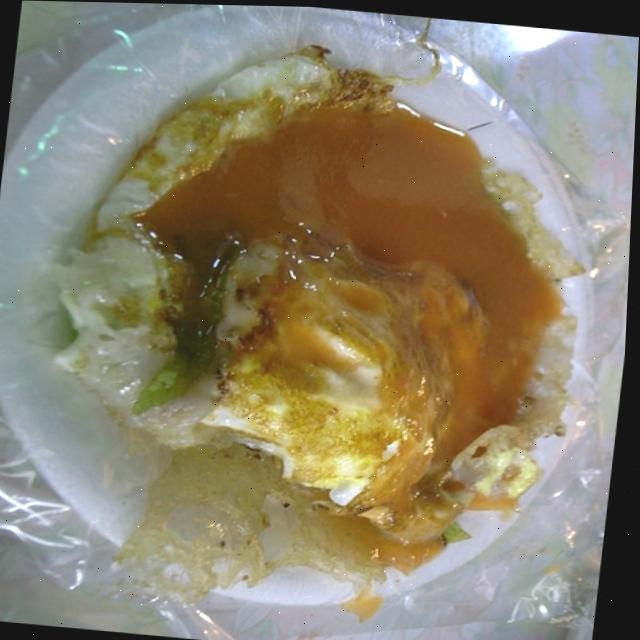熟制海鲜: (0, 0, 640, 615)
